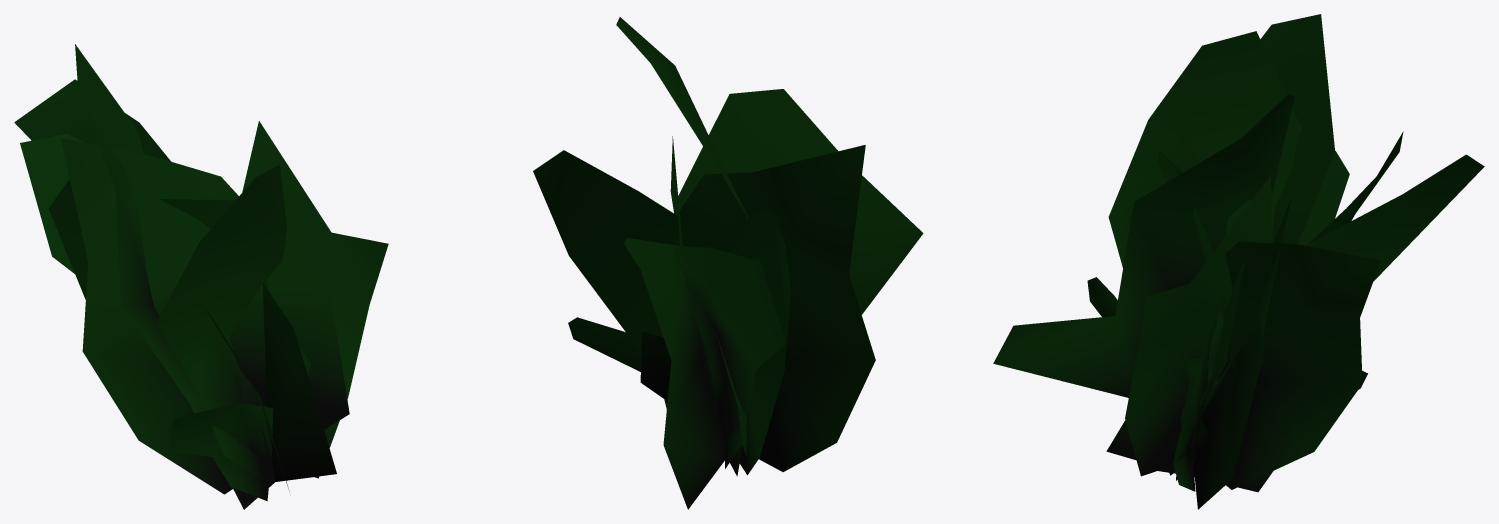
Rendered from GrassTallDryGCATA_C.fbx.
3 renders of one model, left to right at view 1: azimuth 30°, elevation 25°; view 2: azimuth 150°, elevation 25°; view 3: azimuth 270°, elevation 25°, orthographic. The views are drawn at different scales.
Parts seen in each view (by area): view 1: GTDC_LOD0; view 2: GTDC_LOD0; view 3: GTDC_LOD0.
Part boxes in pixels (x1,y1,x2,y2): GTDC_LOD0: (14,44,388,509); GTDC_LOD0: (533,17,923,509); GTDC_LOD0: (993,14,1484,509).
Size of what is drawn, in the model's own units: 1.43 by 1.93 by 2.
